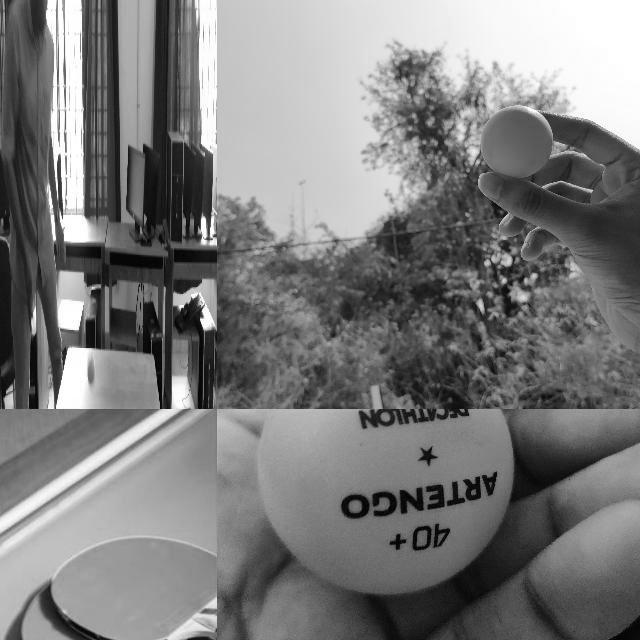ping-pong-ball: (256, 409, 515, 598), (481, 106, 554, 178), (86, 346, 94, 388)
